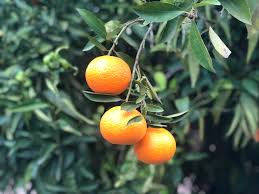orange: (97, 105, 149, 145), (82, 56, 138, 93), (135, 124, 177, 162)
